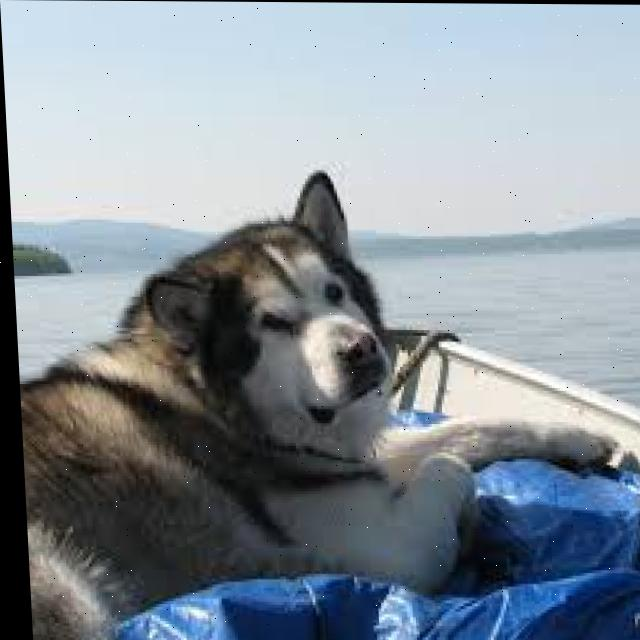ALASKAN_MALAMUTE: (7, 156, 638, 640)
